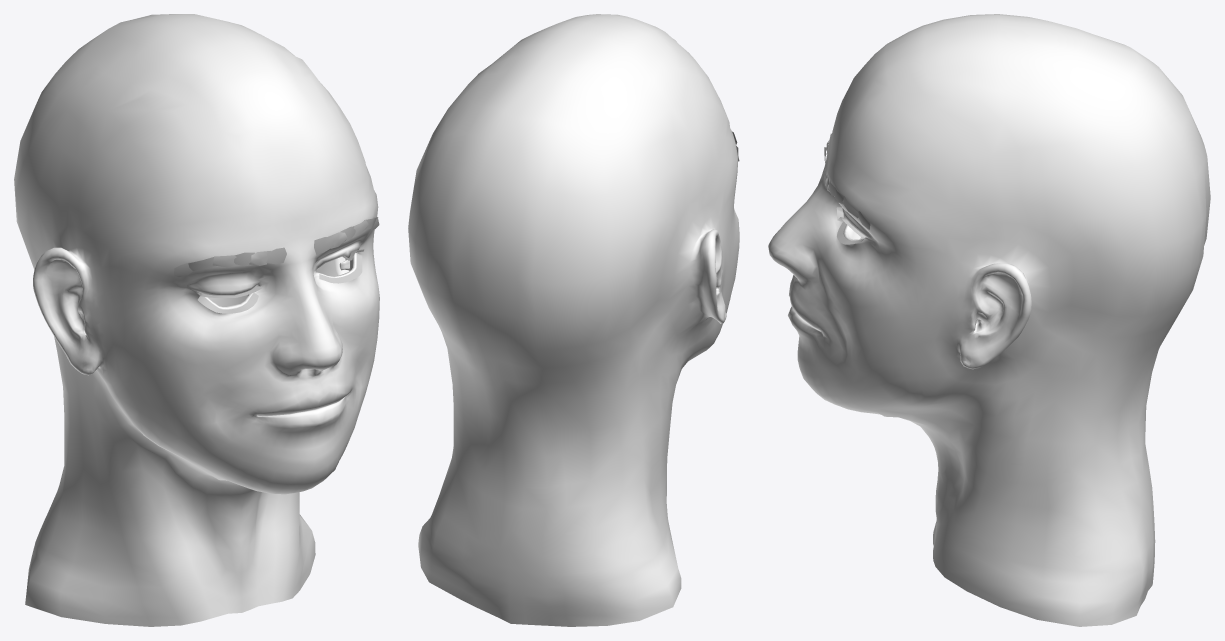
The model's file is eyeLookDownRight.obj.
3 views of the same model, side by side, from view 1: azimuth 30°, elevation 25°; view 2: azimuth 150°, elevation 25°; view 3: azimuth 270°, elevation 25° (orthographic). The views are drawn at different scales.
Parts seen in each view (by area): view 1: FaceMesh_Plane.003; view 2: FaceMesh_Plane.003; view 3: FaceMesh_Plane.003.
Boxes of the visible parts, bbox=[...] form: FaceMesh_Plane.003: bbox=[14, 14, 379, 626]; FaceMesh_Plane.003: bbox=[408, 14, 739, 626]; FaceMesh_Plane.003: bbox=[768, 14, 1210, 626].
Size of the model in its own units: 1.54 by 2.71 by 1.94.
5 materials, 1 textured.
